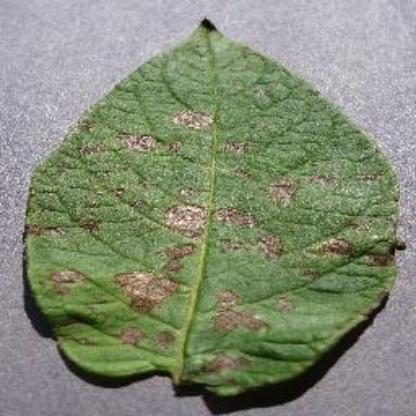Early-Blight: (28, 15, 408, 398)
